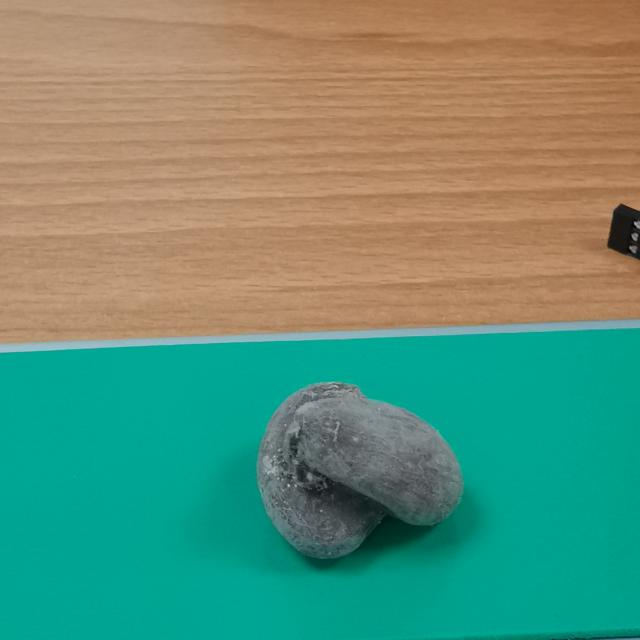Agglomerated_cocoabeans: (175, 371, 540, 579)
